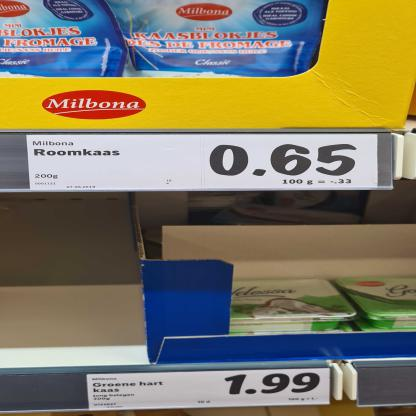prtg: (27, 136, 379, 193), (87, 369, 331, 412)
